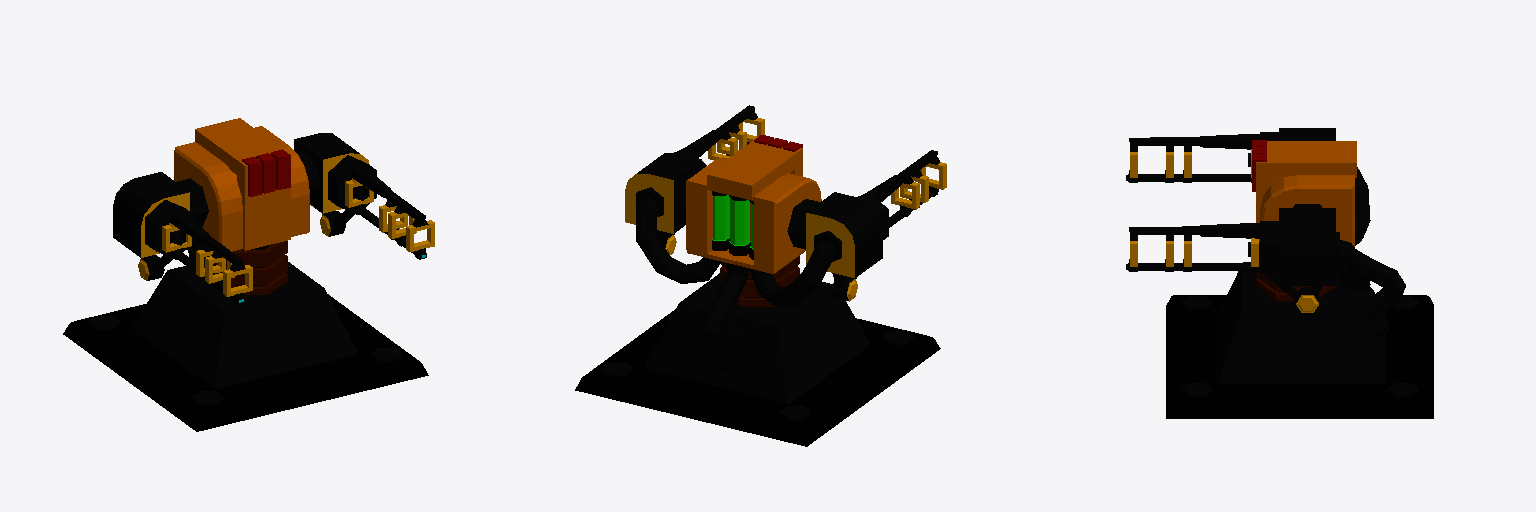
Rendered from PlasmaTurret.obj.
3 renders of one model, left to right at view 1: azimuth 30°, elevation 25°; view 2: azimuth 150°, elevation 25°; view 3: azimuth 270°, elevation 25°, orthographic.
Visible parts, largest first — view 1: MiddlePlasmaTurret1, GunPlasmaTurret1, BasePlasmaTurret1, StoragePlasmaTurret1; view 2: GunPlasmaTurret1, MiddlePlasmaTurret1, BasePlasmaTurret1, StoragePlasmaTurret1, PlasmaAmmoPlasmaTurret1; view 3: BasePlasmaTurret1, MiddlePlasmaTurret1, GunPlasmaTurret1, StoragePlasmaTurret1.
Boxes of the visible parts, <box> form: MiddlePlasmaTurret1: <box>131,241,358,388</box>; GunPlasmaTurret1: <box>113,133,434,303</box>; BasePlasmaTurret1: <box>63,294,428,431</box>; StoragePlasmaTurret1: <box>174,118,309,251</box>; GunPlasmaTurret1: <box>625,105,946,307</box>; MiddlePlasmaTurret1: <box>644,256,870,403</box>; BasePlasmaTurret1: <box>575,309,940,446</box>; StoragePlasmaTurret1: <box>686,135,821,273</box>; PlasmaAmmoPlasmaTurret1: <box>712,191,753,259</box>; BasePlasmaTurret1: <box>1166,295,1433,418</box>; MiddlePlasmaTurret1: <box>1216,249,1405,383</box>; GunPlasmaTurret1: <box>1128,128,1370,312</box>; StoragePlasmaTurret1: <box>1252,140,1356,246</box>.
Size of the model in its own units: 3.24 by 2.84 by 3.74.